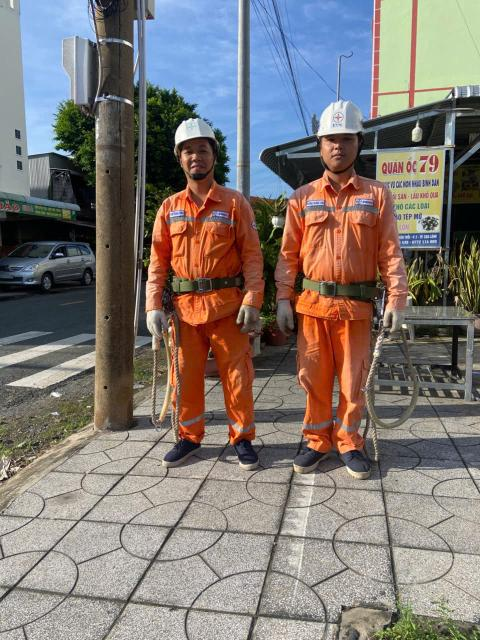gloves: (367, 289, 415, 341), (264, 298, 314, 341), (136, 306, 176, 343), (236, 297, 264, 336)
harness: (287, 266, 390, 308), (159, 268, 251, 304)
helmet: (160, 106, 226, 147), (312, 96, 370, 140)
shoes: (328, 433, 377, 485), (159, 426, 205, 469), (291, 436, 332, 478), (229, 429, 261, 467)
